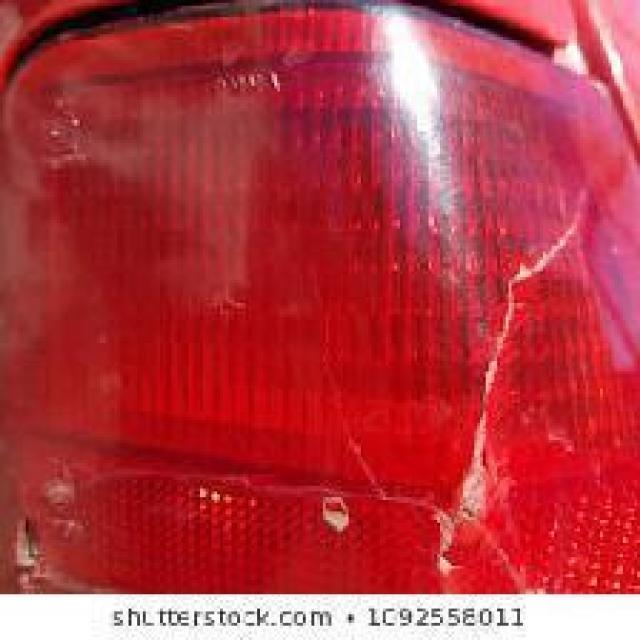damaged: (412, 183, 592, 586)
